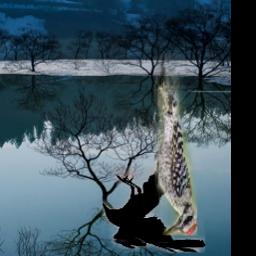Crow: (102, 166, 205, 253)
Woodpecker: (155, 53, 198, 235)
